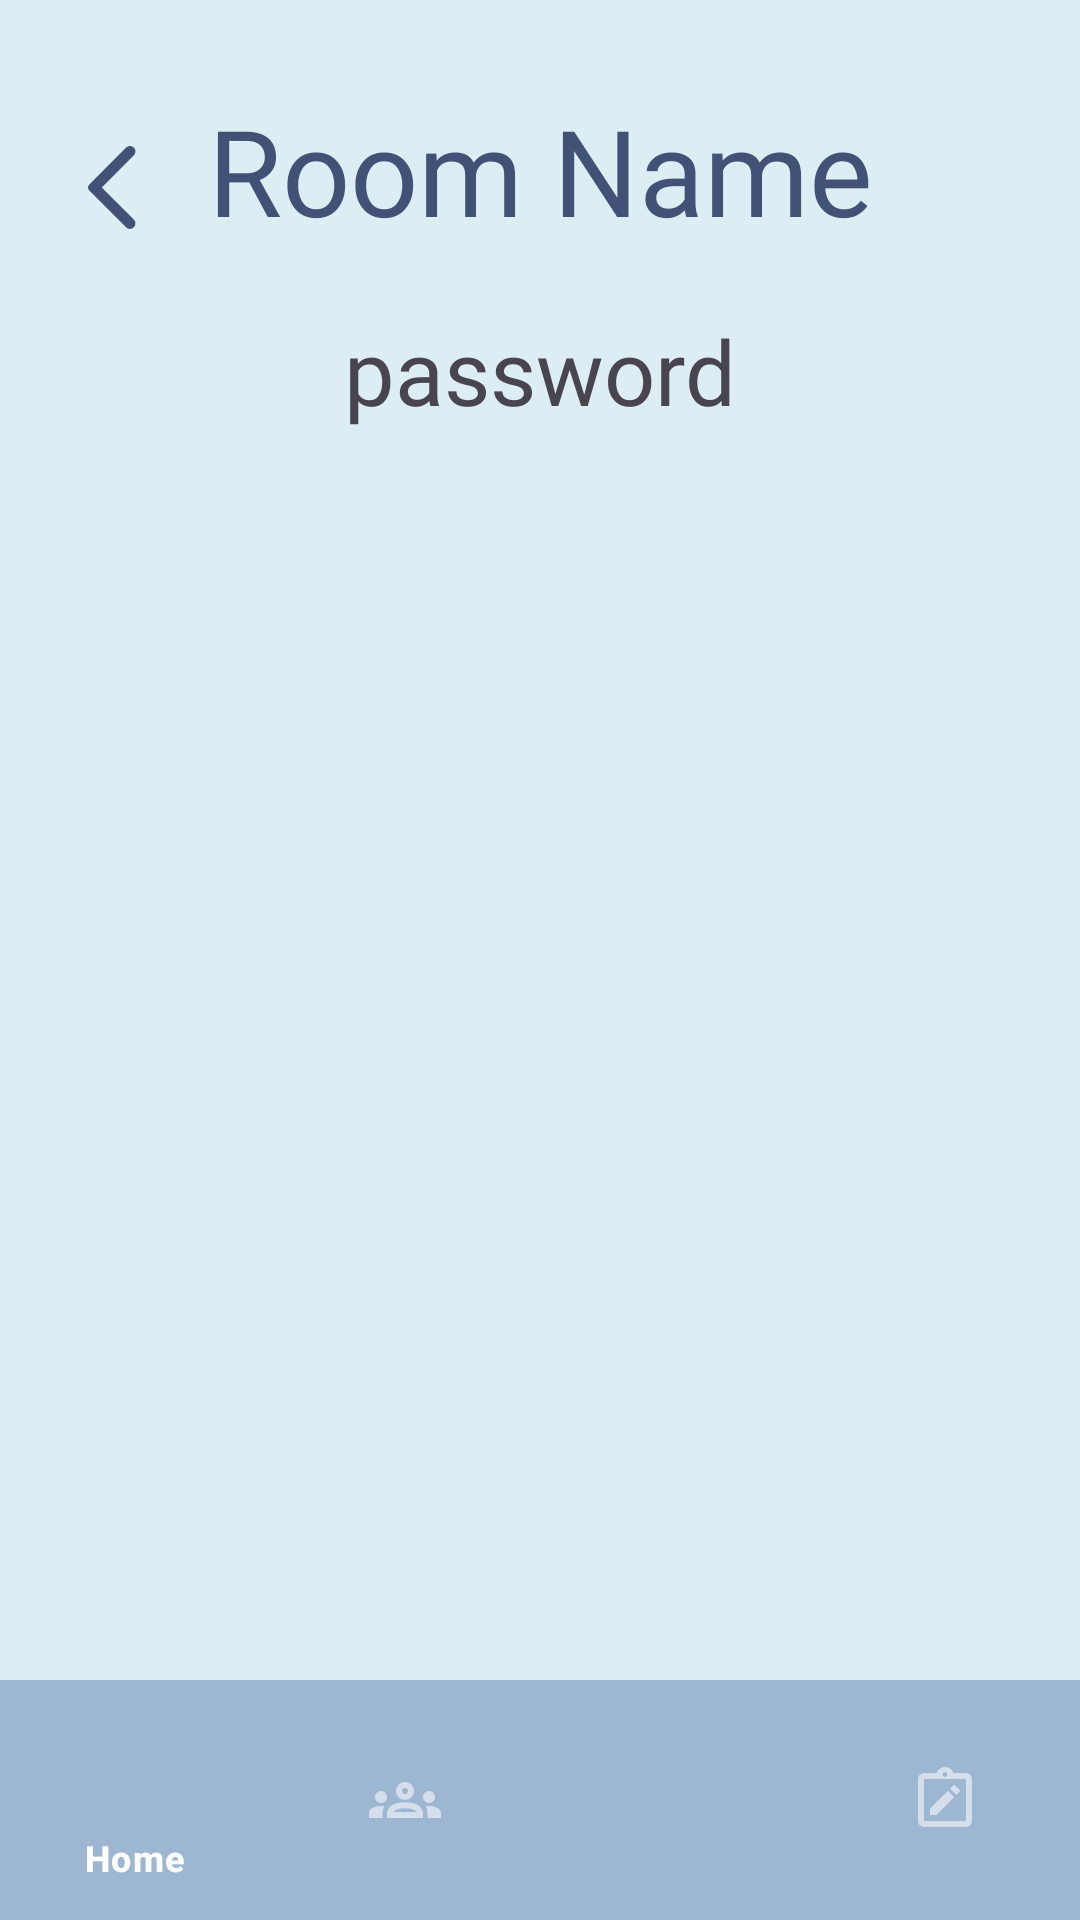

Point at icon controls on the screen. Image size 1080x1920, points as [x,y].
back mnblue: [112,187]
